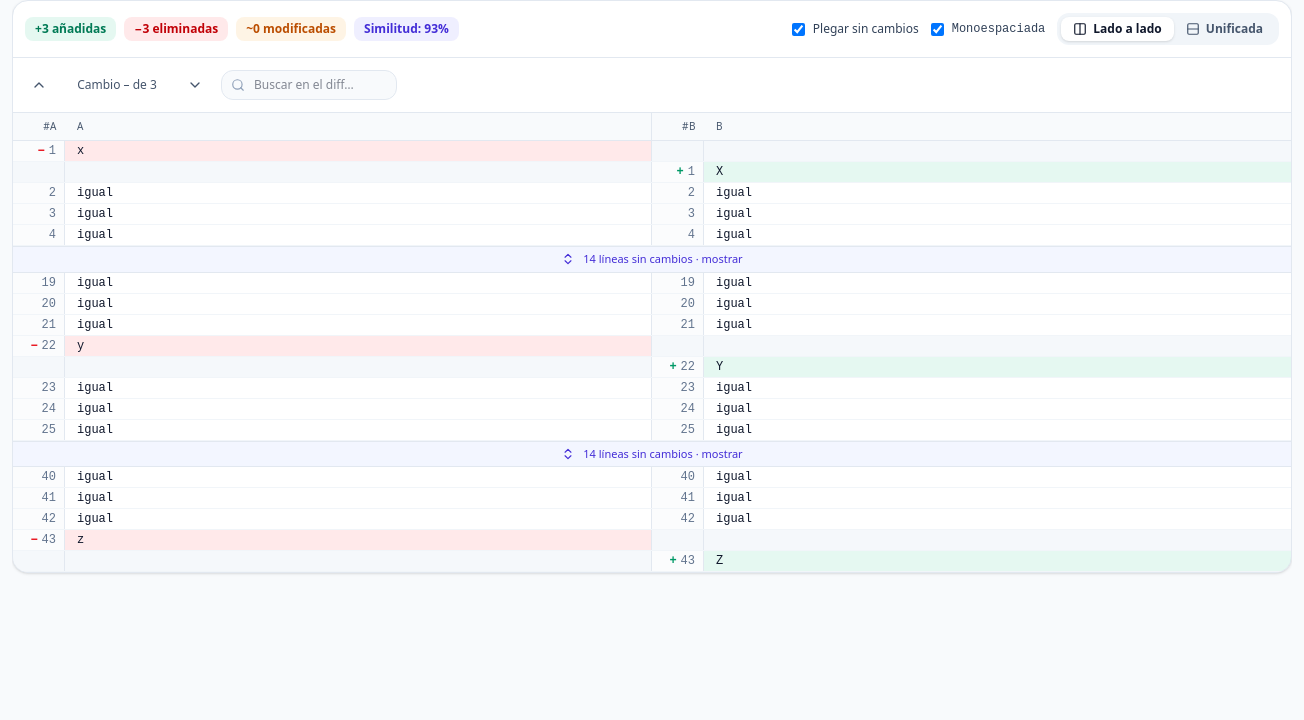
Test case: DiffViewer › navega entre cambios con los botones y con las teclas n/p
This screenshot has width=1304, height=720.
Check: the text "Cambio – de 3" is shown, box x1=77 y1=76 x2=157 y2=93
Click the button named "Siguiente cambio": (195, 85) x1=181 y1=71 x2=209 y2=99
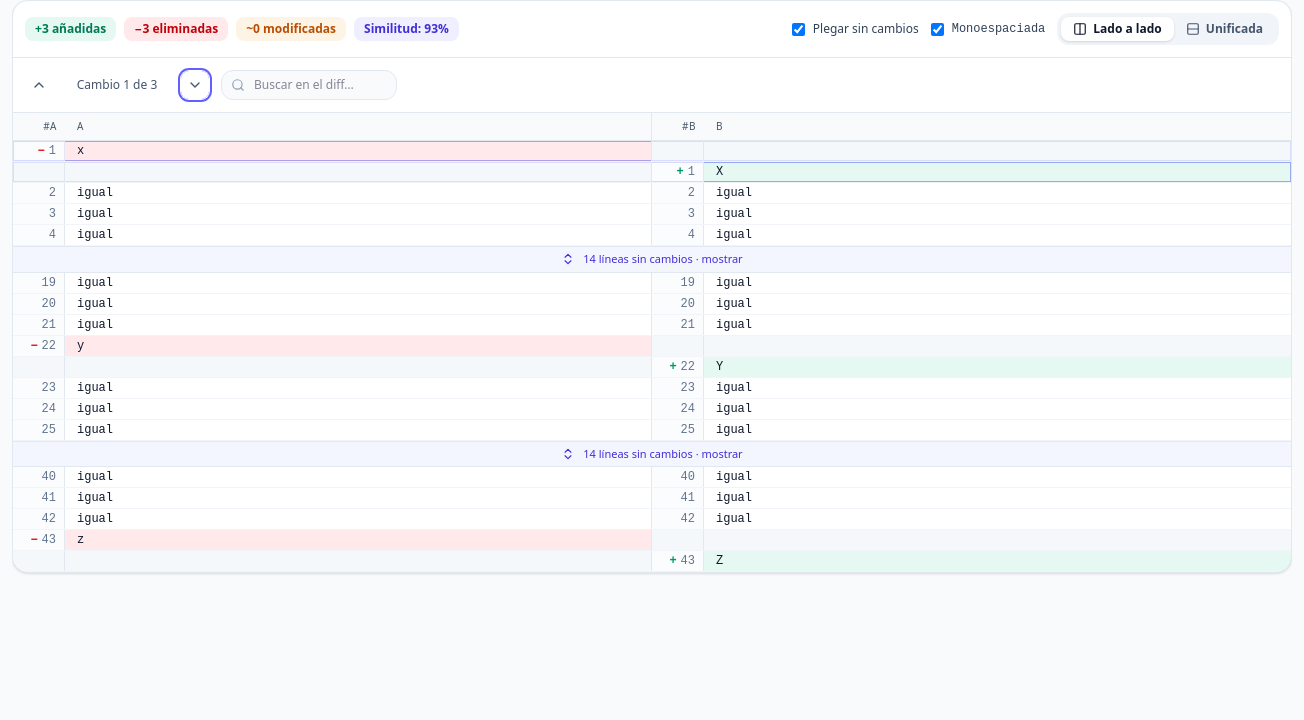
Check: the text "Cambio 1 de 3" is shown, box x1=77 y1=76 x2=157 y2=93
Type keys "n"
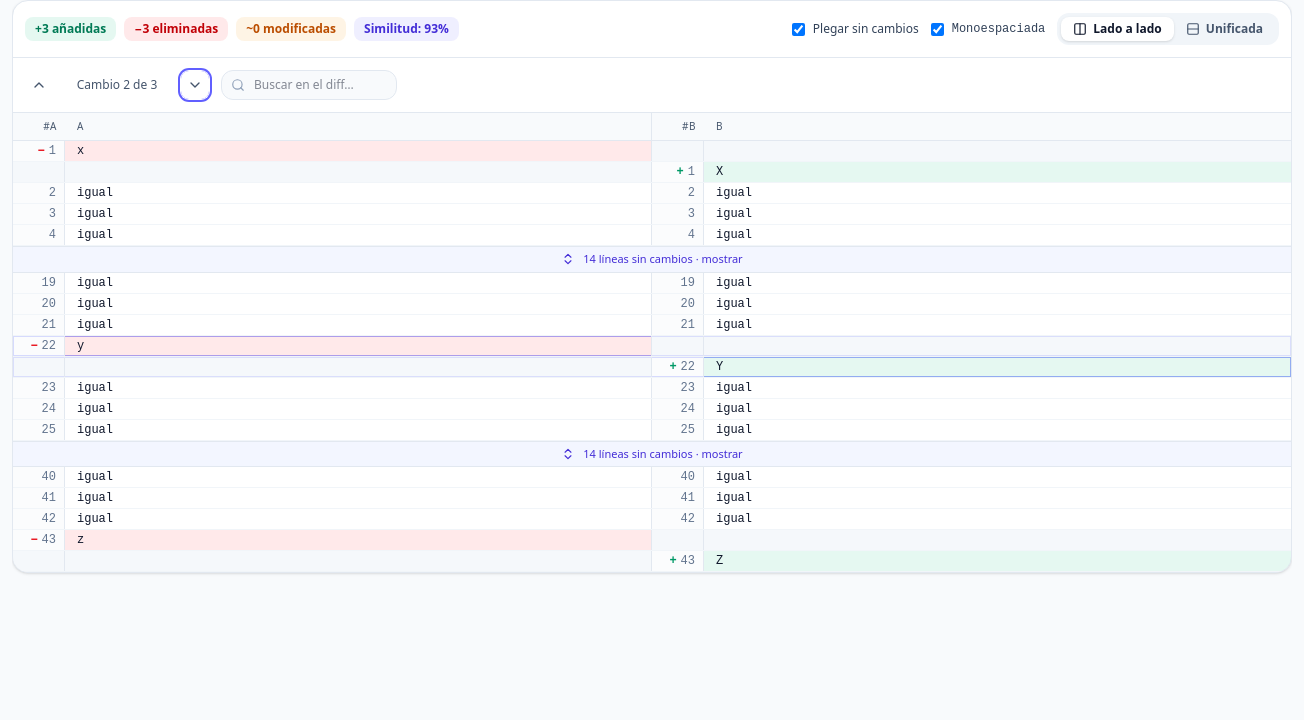
Check: the text "Cambio 2 de 3" is shown, box x1=77 y1=76 x2=157 y2=93
Type keys "p"
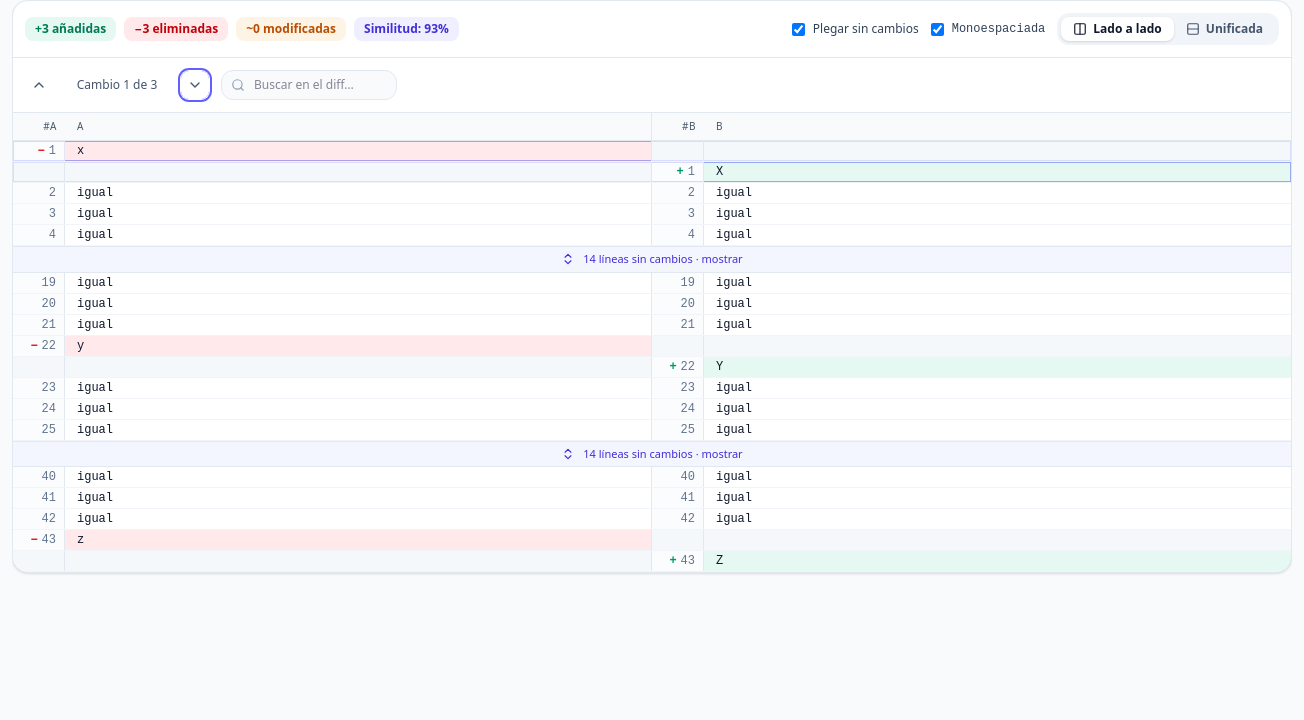
Check: the text "Cambio 1 de 3" is shown, box x1=77 y1=76 x2=157 y2=93
Click the button named "Cambio anterior": (39, 85) x1=25 y1=71 x2=53 y2=99
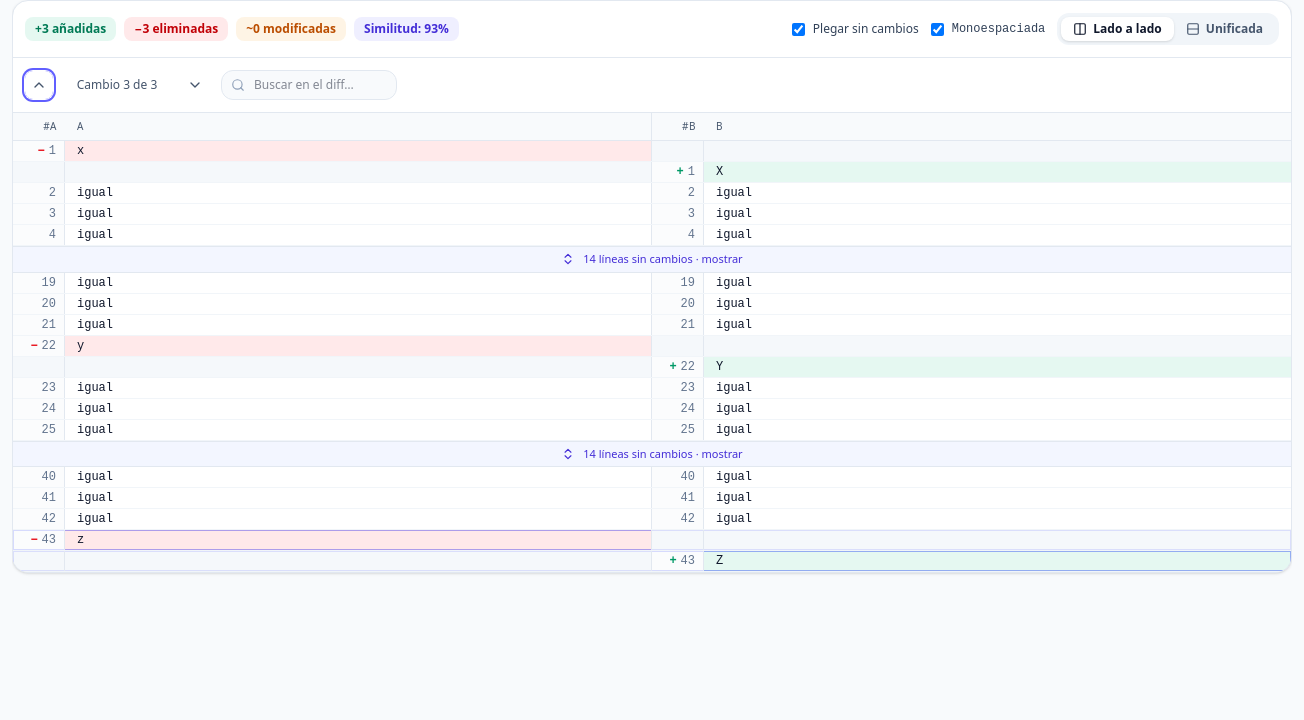
Check: the text "Cambio 3 de 3" is shown, box x1=77 y1=76 x2=157 y2=93
